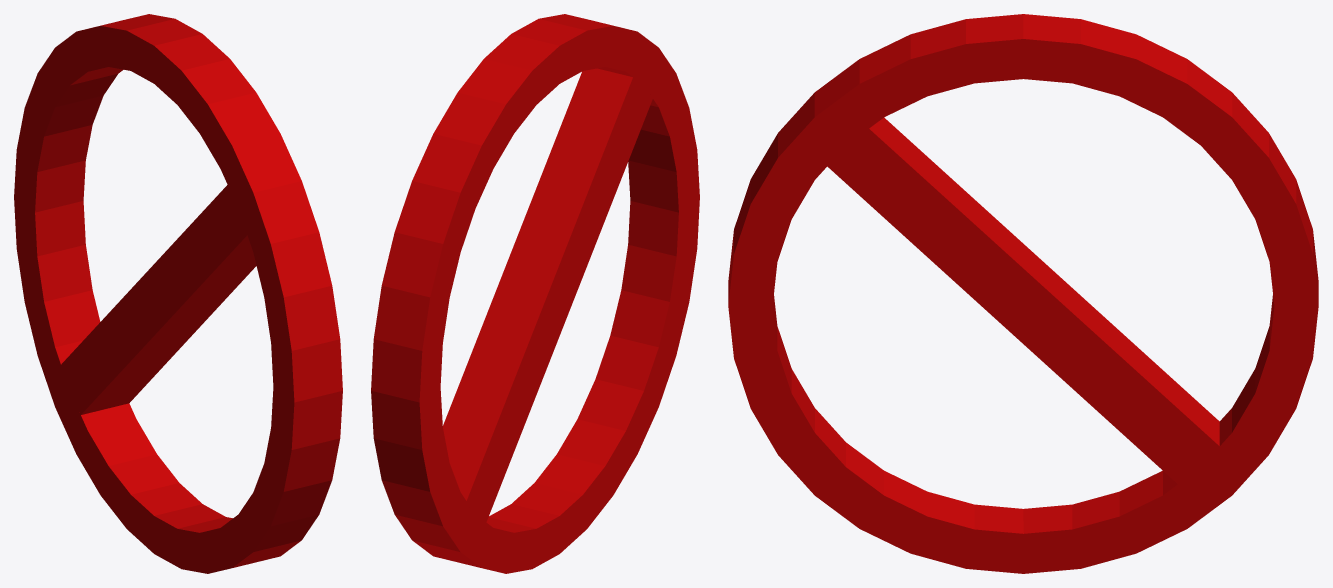
File: void.obj
The picture shows the model from 3 angles, left to right: view 1: azimuth 30°, elevation 25°; view 2: azimuth 150°, elevation 25°; view 3: azimuth 270°, elevation 25°; orthographic projection. The views are drawn at different scales.
Visible parts, largest first — view 1: Cylinder, Cube; view 2: Cylinder, Cube; view 3: Cylinder, Cube.
Part boxes in pixels (x1,y1,x2,y2): Cylinder: (14,14,342,573); Cube: (60,184,256,414); Cylinder: (371,14,699,573); Cube: (443,68,652,522); Cylinder: (728,14,1318,573); Cube: (825,117,1219,485).
Bounding box in the file's own units: 0.2001 × 2 × 2.
